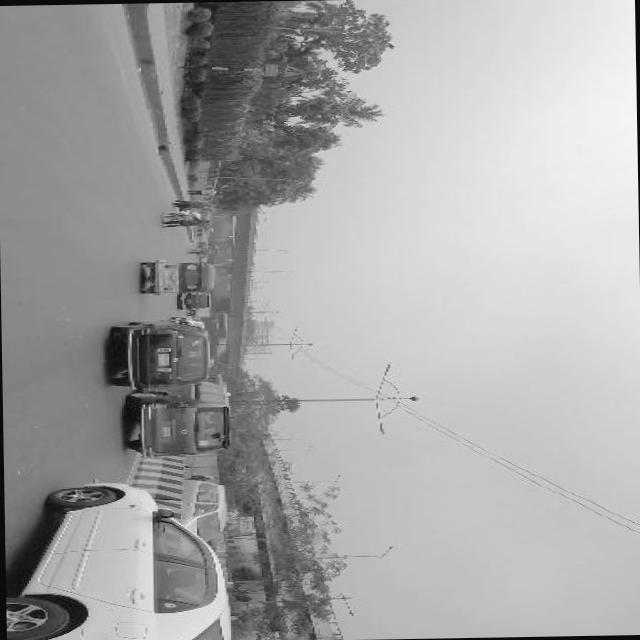bus: (213, 310, 230, 334)
car: (4, 476, 233, 640), (116, 316, 210, 388), (172, 314, 205, 326), (202, 256, 210, 261)
motorcycle: (142, 257, 213, 293)
truck: (131, 378, 228, 456), (184, 479, 224, 536), (181, 290, 211, 308), (190, 307, 213, 315)
